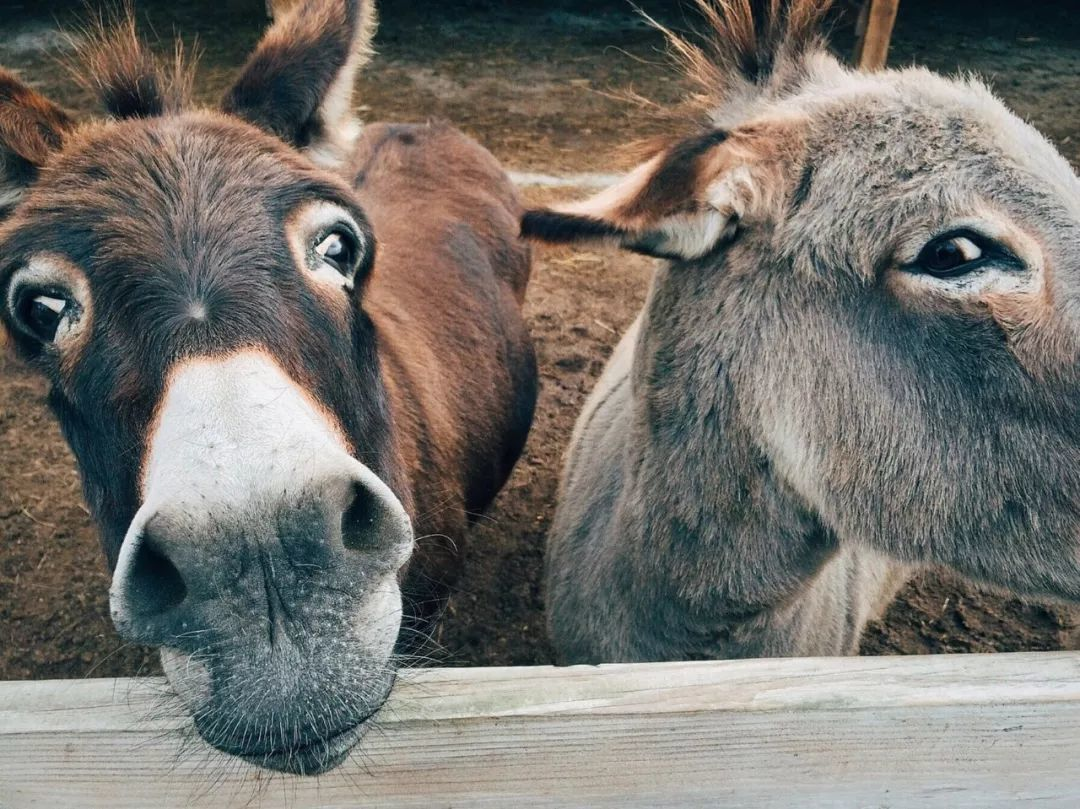background: (1, 104, 605, 772)
